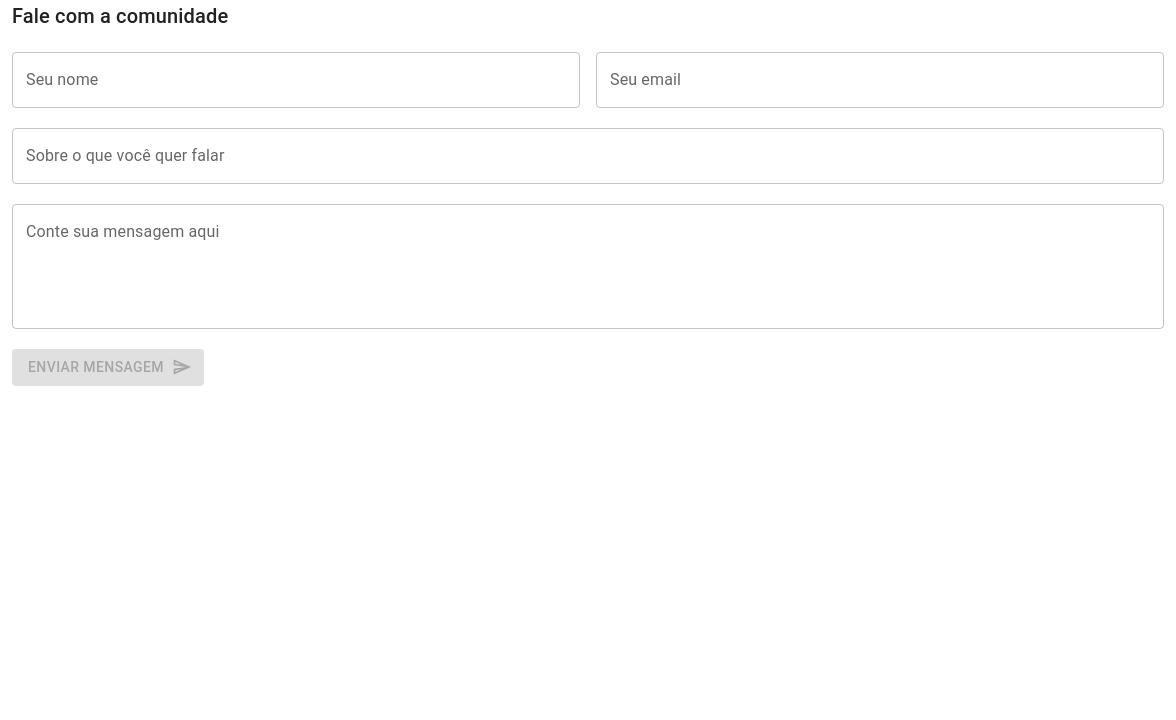
ContactForm › envia e mostra confirmação quando todos os campos são válidos
Type "Maria" into the field labelled "Seu nome".
click(296, 80); type("Maria")  # box [12, 52, 580, 108]
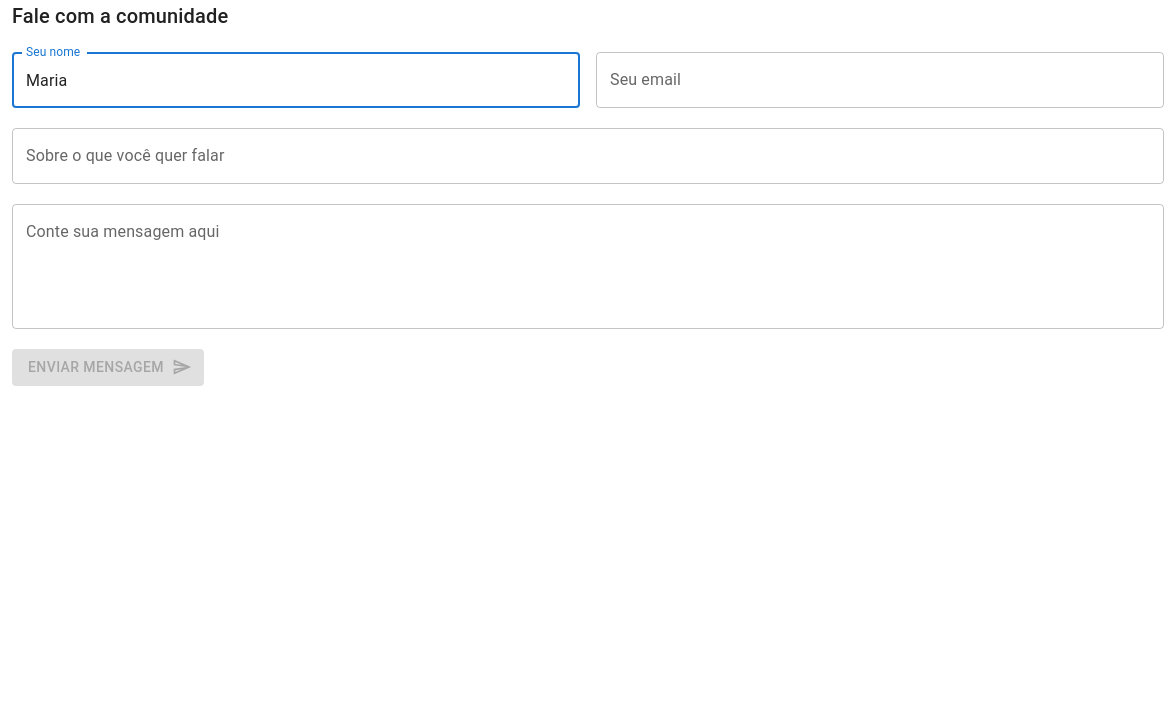
Type "maria@example.com" into the field labelled "Seu email".
click(880, 80); type("maria@example.com")  # box [596, 52, 1164, 108]
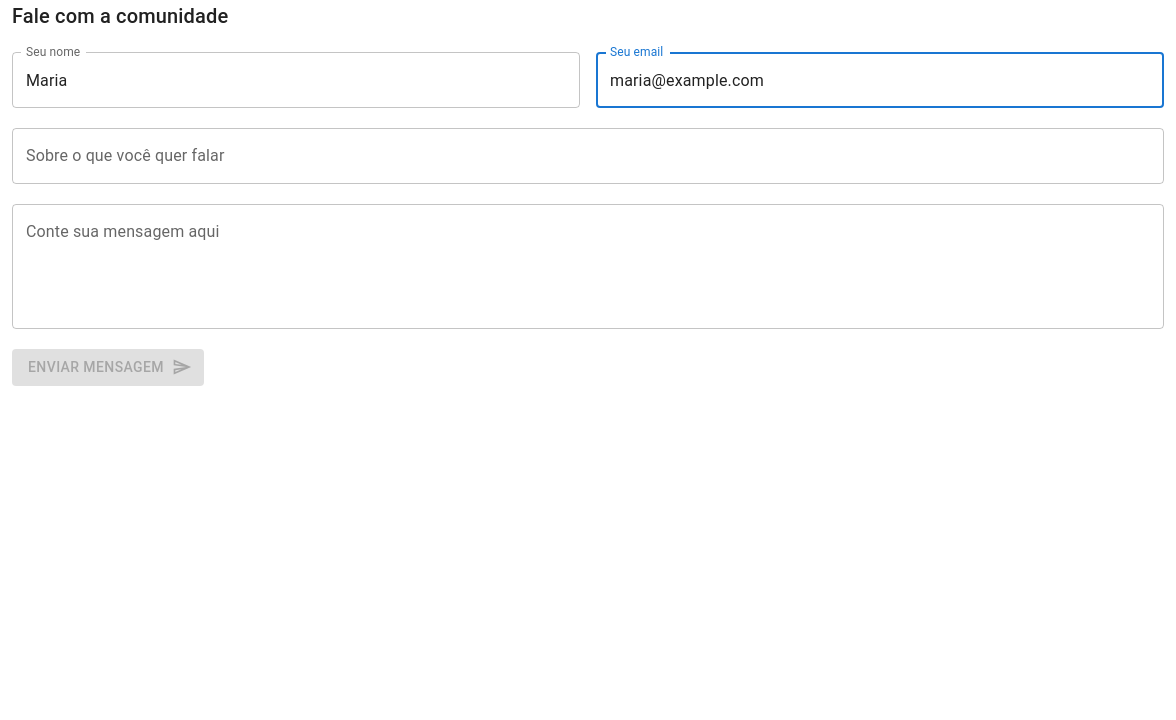
Type "Parceria" into the field labelled "Sobre o que você quer falar".
click(588, 156); type("Parceria")  # box [12, 128, 1164, 184]
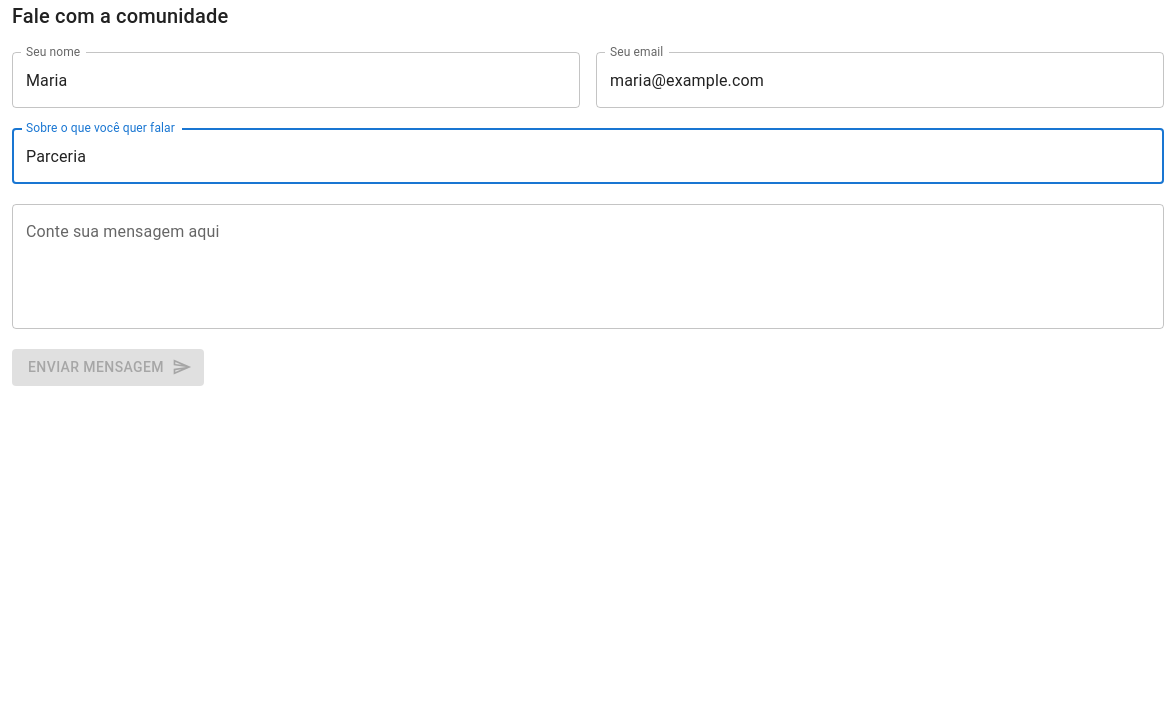
Type "Gostaria de conversar sobre uma parceria." into the text box labelled "Conte sua mensagem aqui".
click(588, 266); type("Gostaria de conversar sobre uma parceria.")  # box [26, 220, 1150, 312]
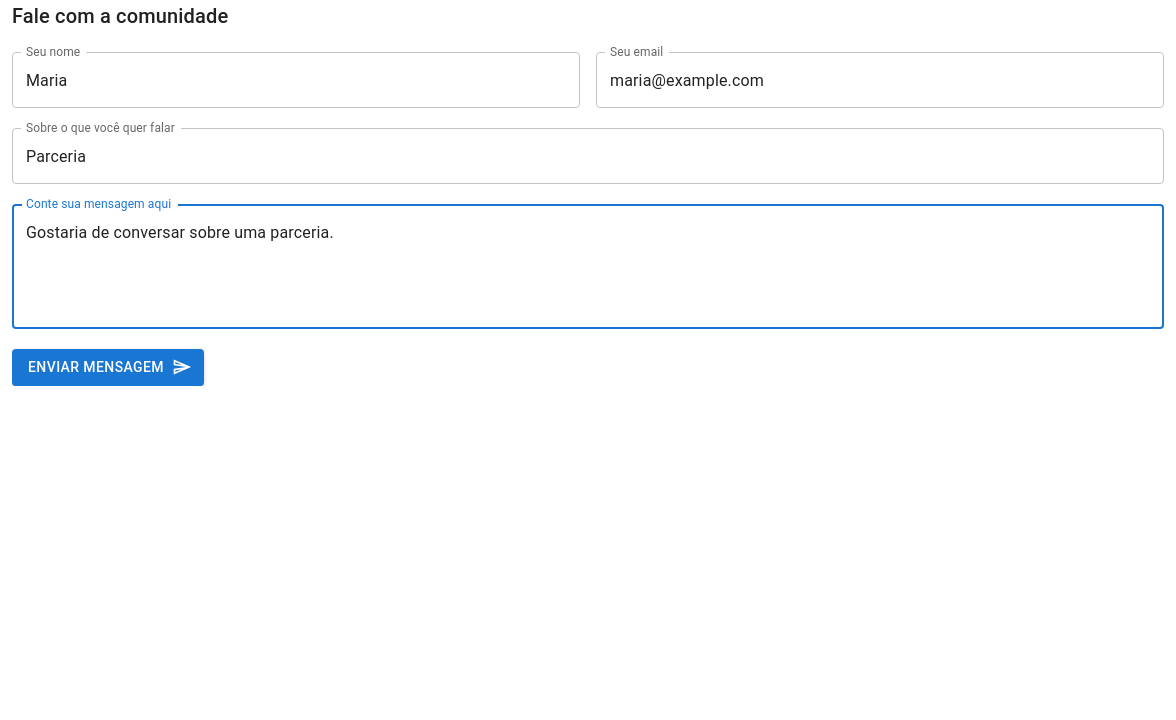
Click the button "Enviar mensagem".
click(108, 367)  # box [12, 349, 204, 386]
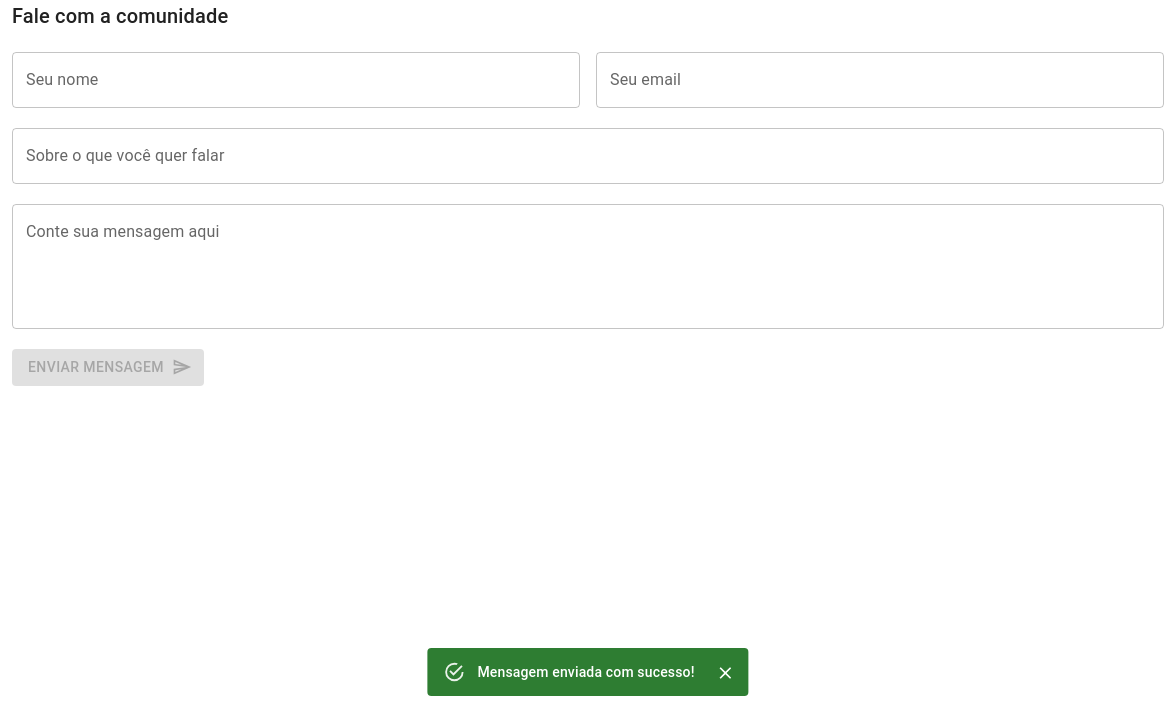
Now the text "Mensagem enviada com sucesso!" is shown, box [477, 664, 695, 680]
Now the field labelled "Seu nome" is empty, box [12, 52, 580, 108]
